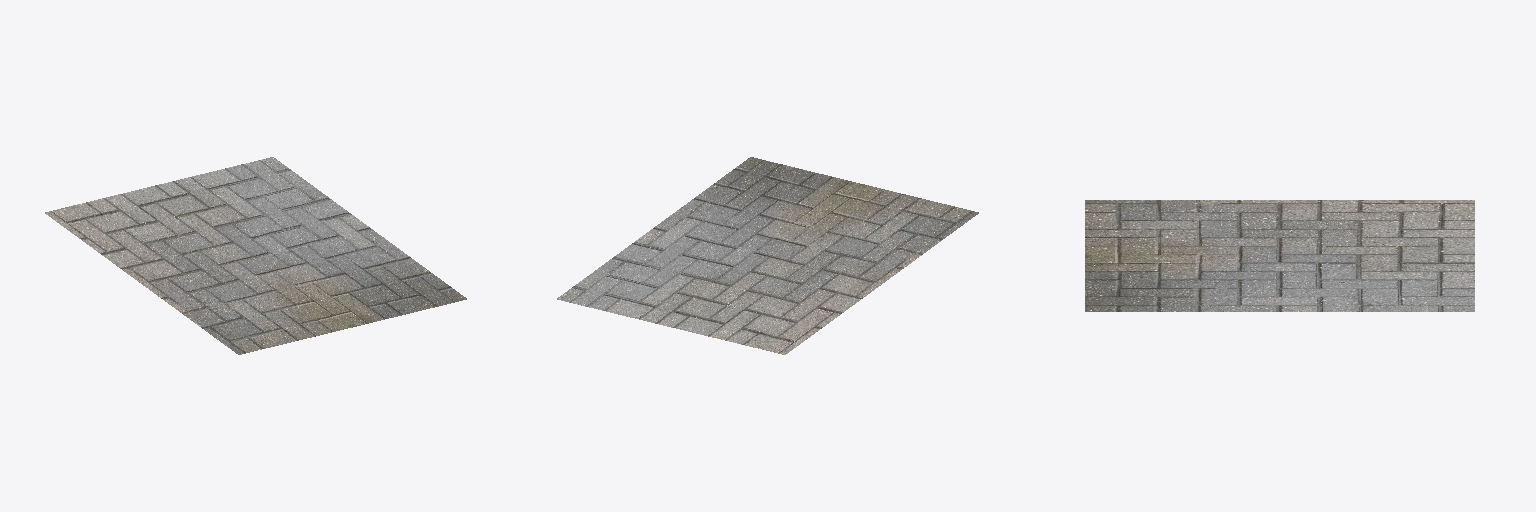
3 views of the same model, side by side, from view 1: azimuth 30°, elevation 25°; view 2: azimuth 150°, elevation 25°; view 3: azimuth 270°, elevation 25° (orthographic).
Visible parts, largest first — view 1: Piso; view 2: Piso; view 3: Piso.
Boxes of the visible parts, x1=… form: Piso: x1=45, y1=157, x2=466, y2=354; Piso: x1=557, y1=157, x2=978, y2=354; Piso: x1=1085, y1=200, x2=1474, y2=311.
Bounding box in the file's own units: 122 × 0.0001 × 180.
1 materials, 1 textured.